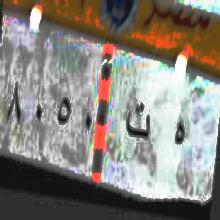0: (29, 94, 47, 128), (80, 102, 94, 136)
5: (52, 82, 73, 133)
8: (6, 76, 22, 128)
haa: (168, 107, 187, 159)
taa: (125, 94, 154, 154)
